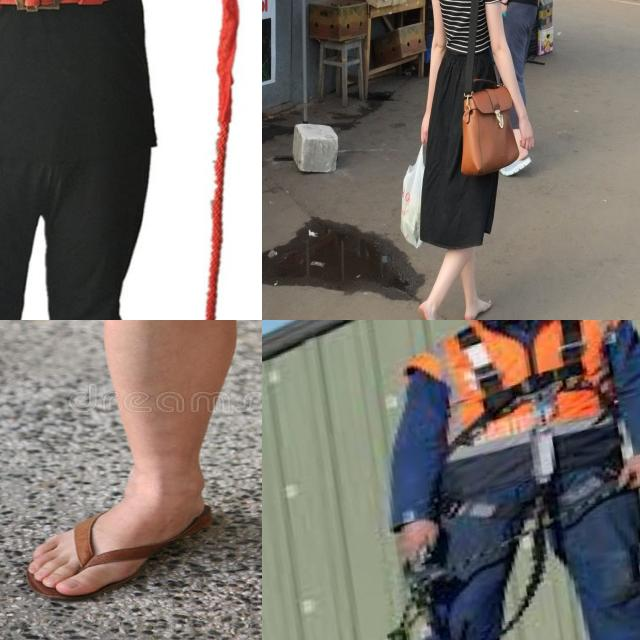Barefoots: (464, 299, 491, 320), (417, 300, 437, 320)
Harness: (443, 320, 598, 457)
Sandals: (18, 461, 213, 600)
